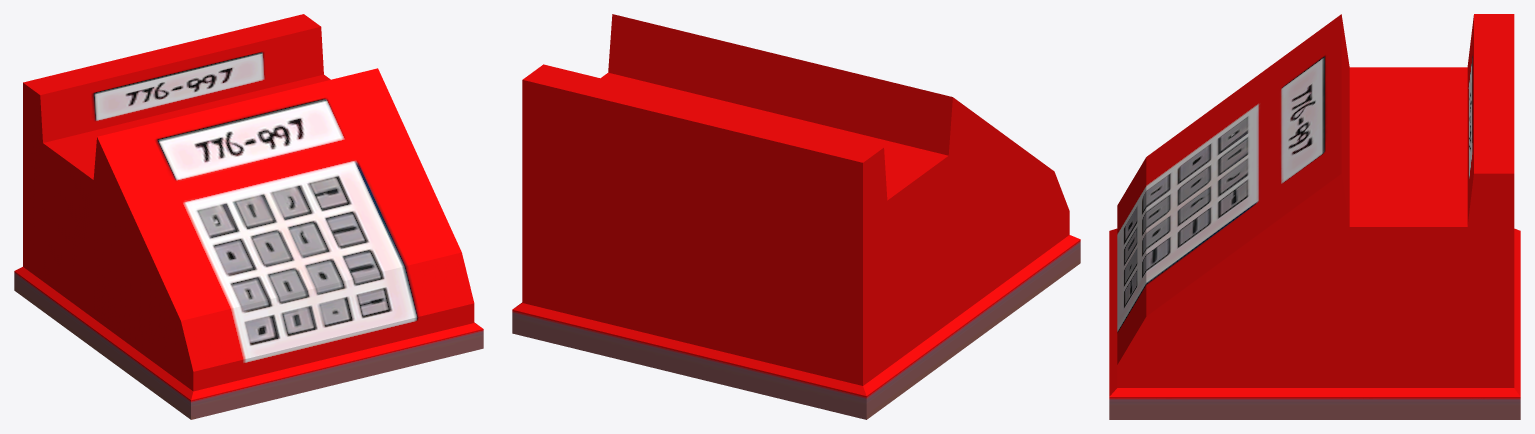
File: Phone1.glb
The picture shows the model from 3 angles, left to right: view 1: azimuth 30°, elevation 25°; view 2: azimuth 150°, elevation 25°; view 3: azimuth 270°, elevation 25°; orthographic projection. The views are drawn at different scales.
Visible parts, largest first — view 1: Phone1; view 2: Phone1; view 3: Phone1.
Part boxes in pixels (x1,y1,x2,y2): Phone1: [14, 14, 483, 419]; Phone1: [512, 14, 1080, 419]; Phone1: [1109, 14, 1520, 419].
Bounding box in the file's own units: 11.33 × 7.73 × 11.86.
Materials: 1 (1 with a texture image).
